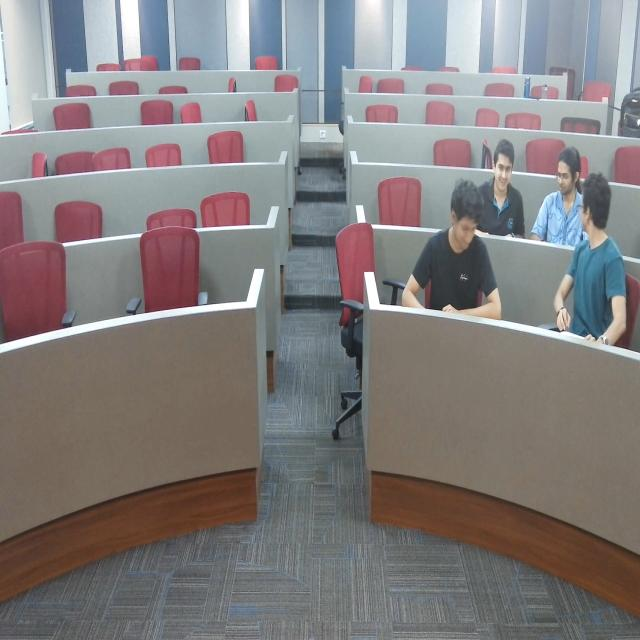cheating: (571, 166, 625, 359), (479, 131, 531, 235)
non-cheating: (399, 174, 504, 340)
